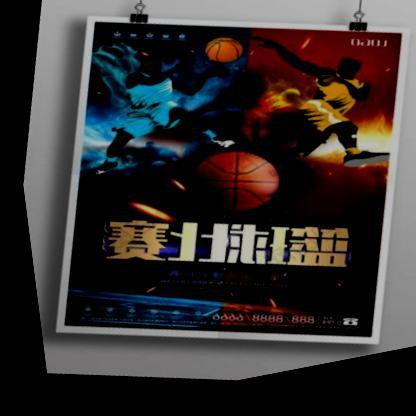basketball: (174, 143, 282, 237)
